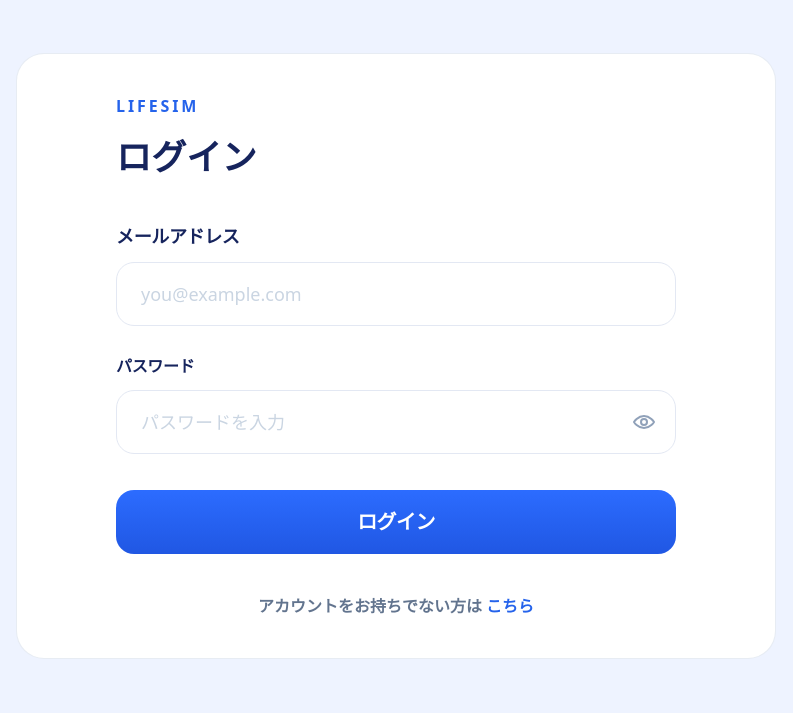
Test case: LoginPage › 【異常系】パスワード未入力で送信した場合はバリデーションエラーが表示されること
The image size is (793, 713).
Type "taro@example.com" into the field labelled "メールアドレス".
click(396, 294); type("taro@example.com")  # box [116,262,676,326]
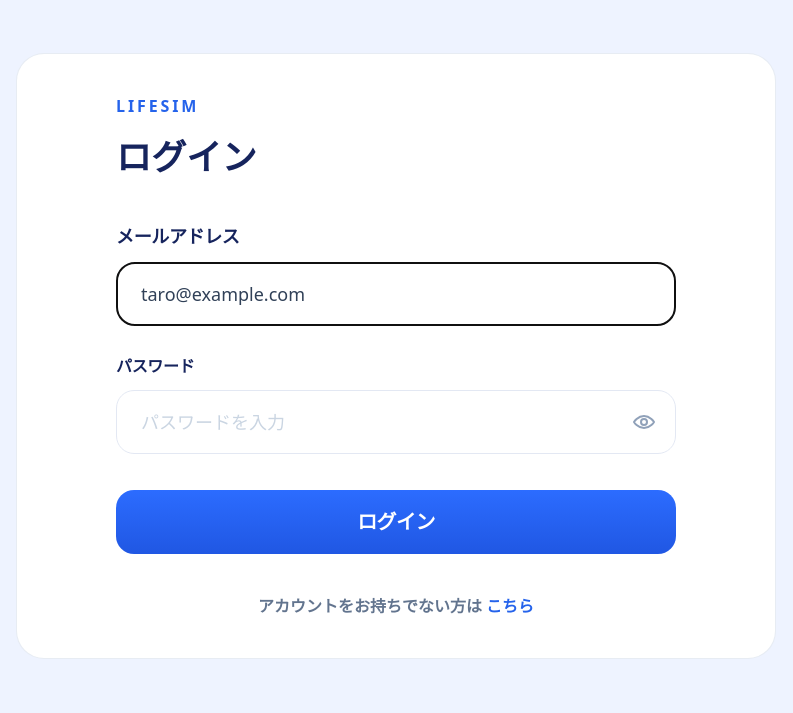
Click the button "ログイン".
click(396, 522)  # box [116,490,676,554]
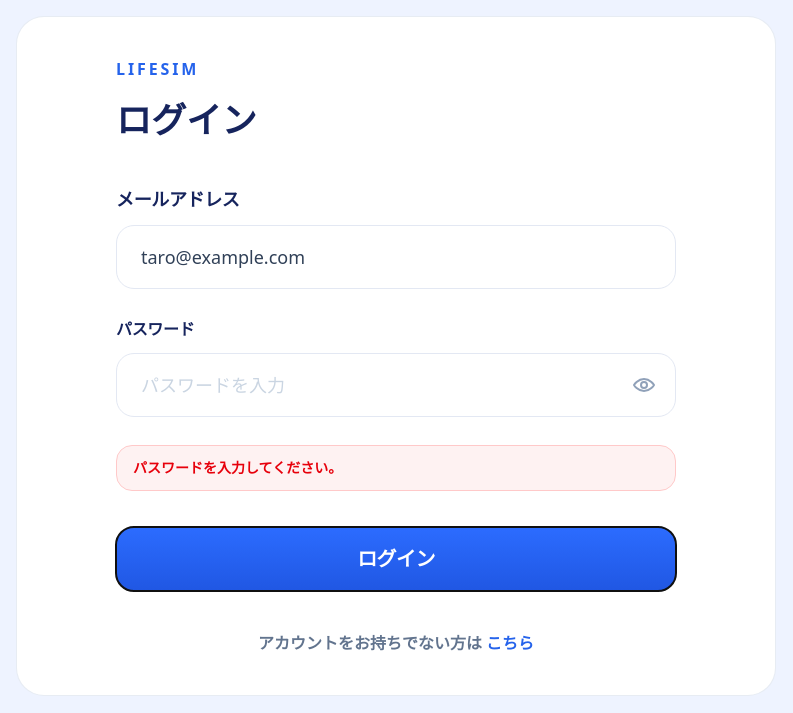
Now the text "パスワードを入力してください。" is shown, box [116,445,676,491]
